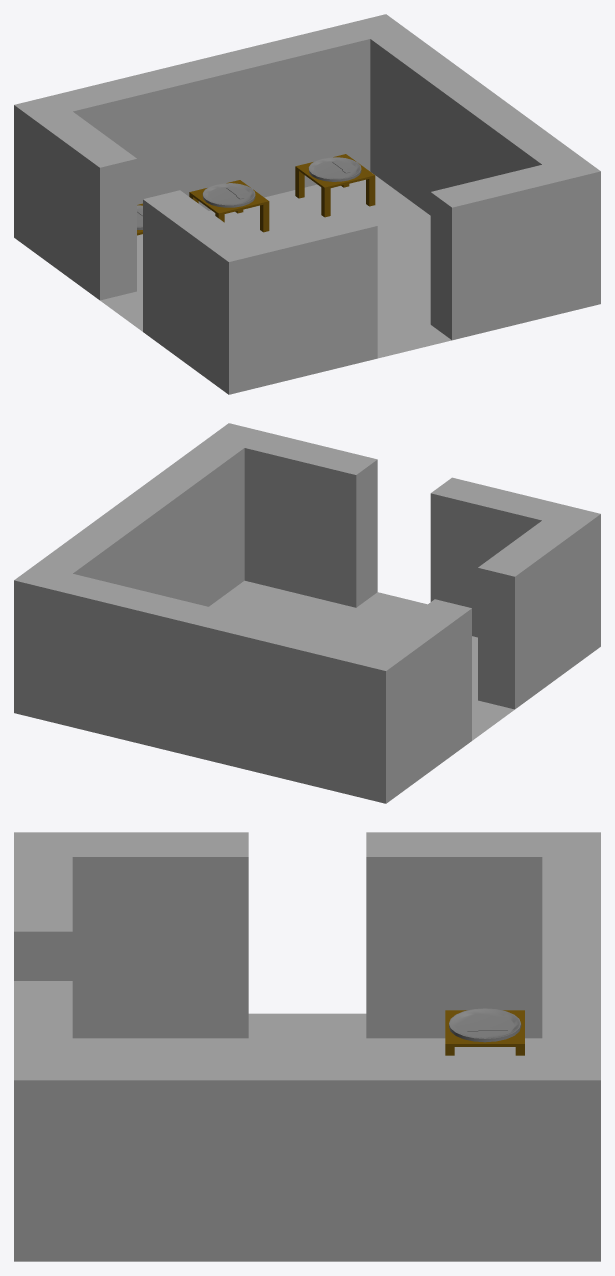
The model's file is MessRoom.fbx.
The picture shows the model from 3 angles, top to bottom: view 1: azimuth 30°, elevation 25°; view 2: azimuth 150°, elevation 25°; view 3: azimuth 270°, elevation 25°; orthographic projection. The views are drawn at different scales.
Visible parts, largest first — view 1: pPlane68; view 2: pPlane68; view 3: pPlane68.
Boxes of the visible parts, x1,y1,x2,y2 form: pPlane68: (14,14,600,394); pPlane68: (14,423,600,803); pPlane68: (14,832,600,1261).
Size of the model in its own units: 23.74 by 8.53 by 23.74.
